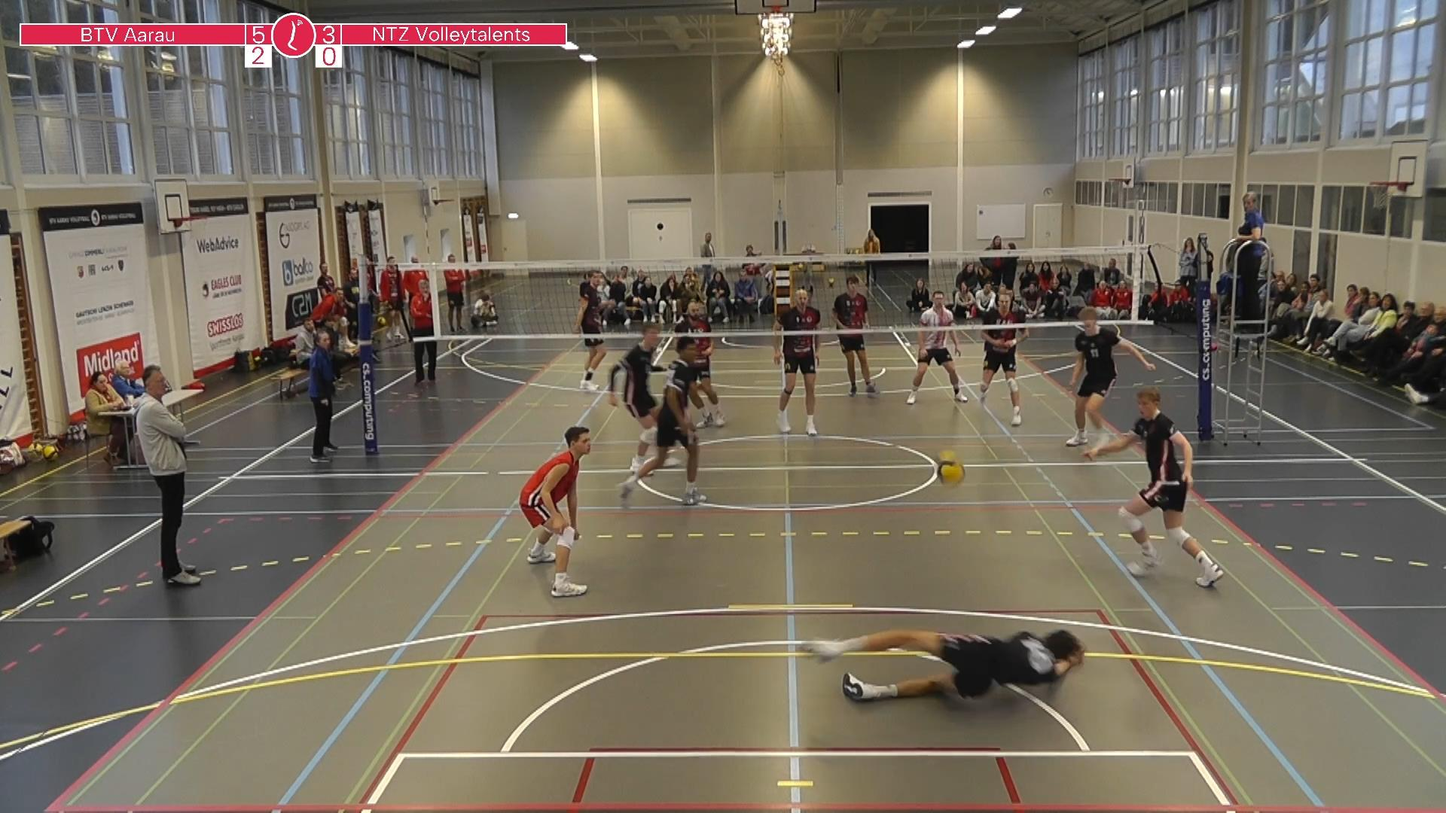difesa: (818, 625, 1095, 714)
